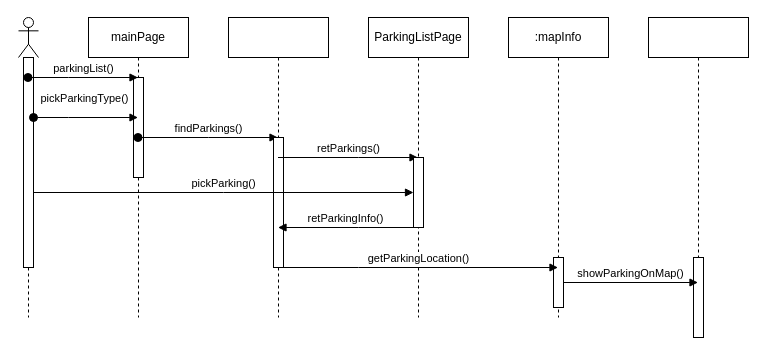
This 766x355 diagram has some shape labels left out. The shapes that lost their labels are listed below. From the top down, each one's box as (x1, y1, x2, y2) in pixels, then its label:
(228, 16, 328, 318): :ParkingList
(648, 16, 748, 338): mapPage
